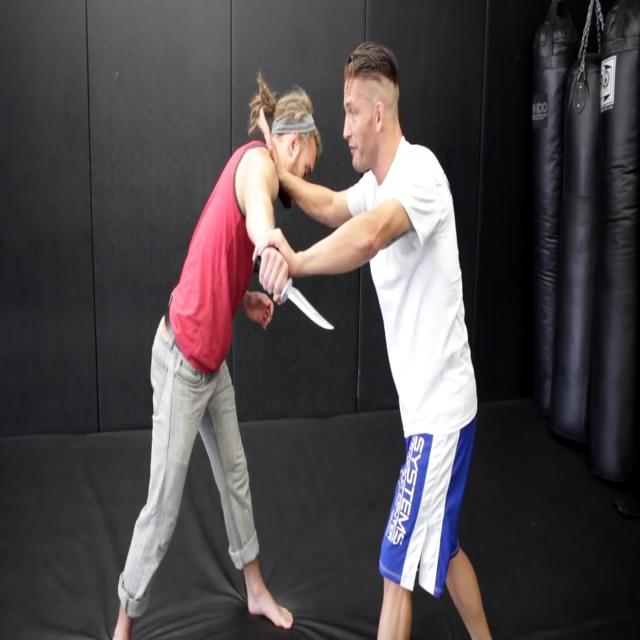knife: (284, 272, 337, 339)
